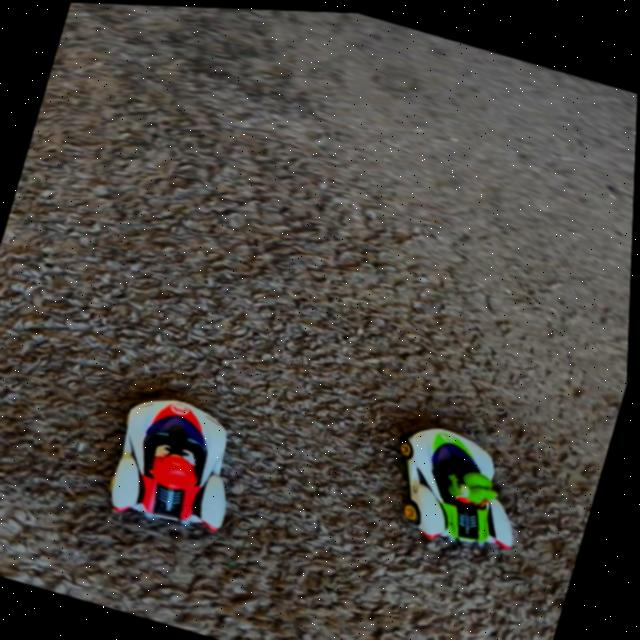mario: (71, 361, 276, 565)
yoshi: (361, 393, 569, 584)
